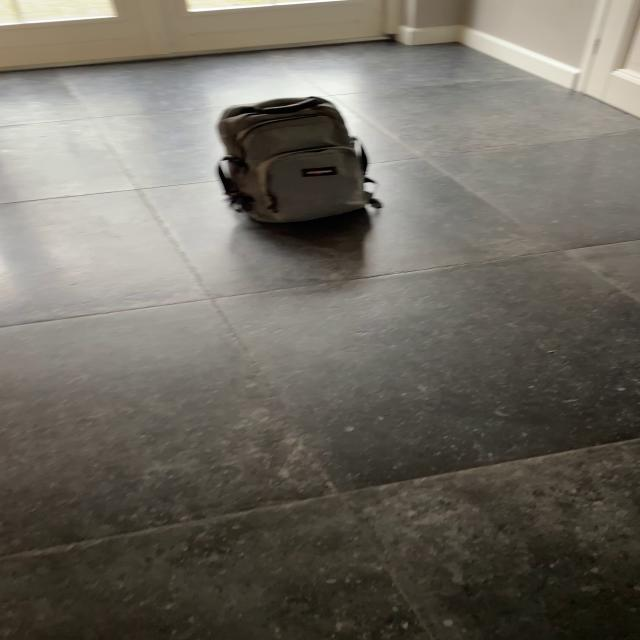backpack: (208, 90, 378, 228)
